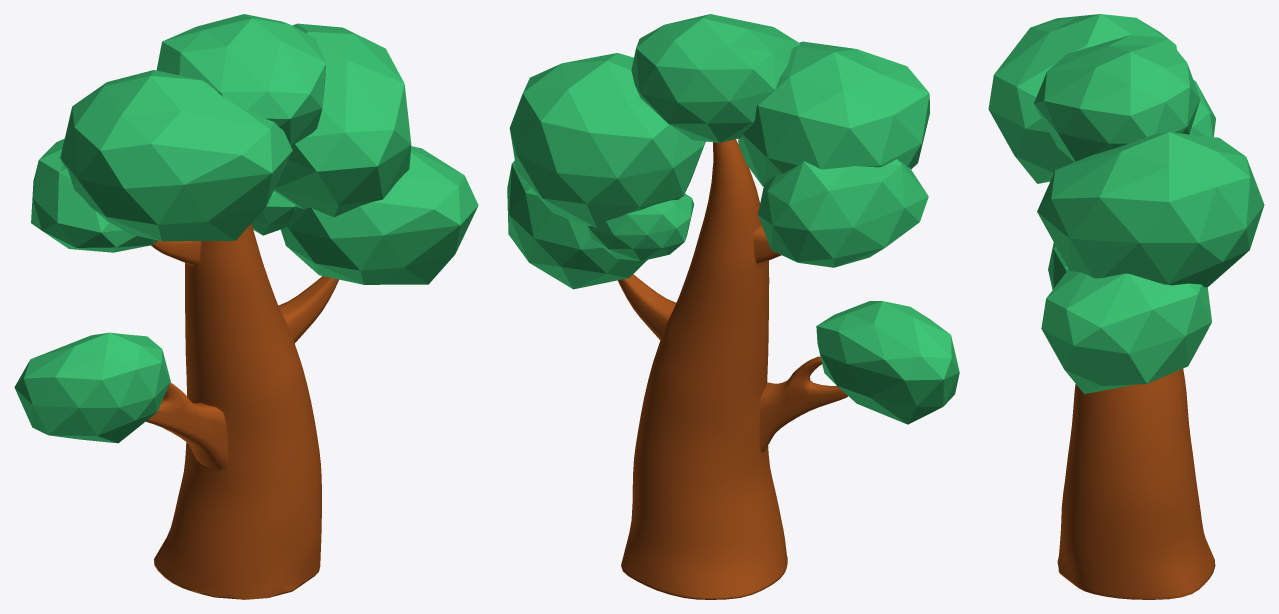
File: tree2.fbx
3 renders of one model, left to right at view 1: azimuth 30°, elevation 25°; view 2: azimuth 150°, elevation 25°; view 3: azimuth 270°, elevation 25°, orthographic. The views are drawn at different scales.
Visible parts, largest first — view 1: Cylinder034; view 2: Cylinder034; view 3: Cylinder034.
Part boxes in pixels (left/top/right/bottom): Cylinder034: left=14, top=14, right=478, bottom=599; Cylinder034: left=507, top=14, right=959, bottom=599; Cylinder034: left=988, top=14, right=1264, bottom=599.
Bounding box in the file's own units: 105 × 125 × 60.15.
